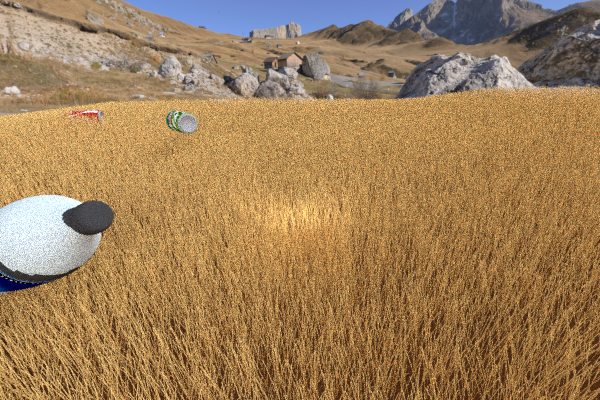Plastic Bottle: (0, 194, 113, 299), (62, 109, 105, 128), (165, 110, 197, 134)
